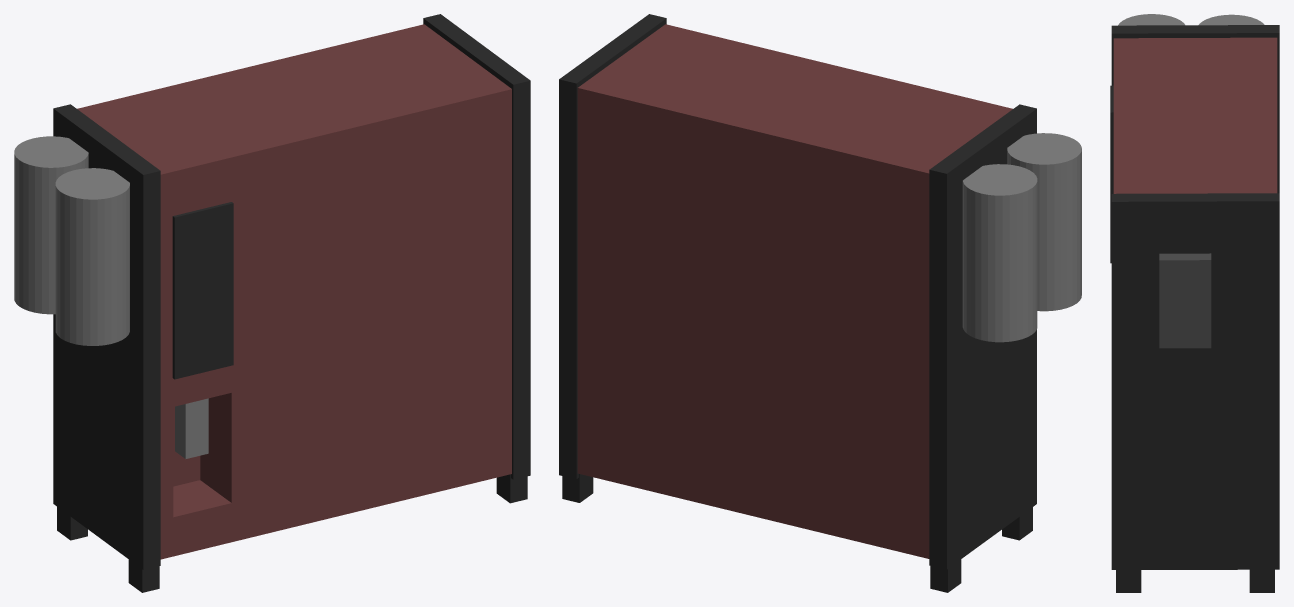
The model's file is Foodmachine 1.fbx.
3 views of the same model, side by side, from view 1: azimuth 30°, elevation 25°; view 2: azimuth 150°, elevation 25°; view 3: azimuth 270°, elevation 25° (orthographic). The views are drawn at different scales.
Parts seen in each view (by area): view 1: PM3D_Cube3D1_560; view 2: PM3D_Cube3D1_560; view 3: PM3D_Cube3D1_560.
Boxes of the visible parts, <box> form: PM3D_Cube3D1_560: <box>14,14,530,592</box>; PM3D_Cube3D1_560: <box>559,14,1081,592</box>; PM3D_Cube3D1_560: <box>1110,14,1279,592</box>.
Bounding box in the file's own units: 248 × 215 × 84.09.
